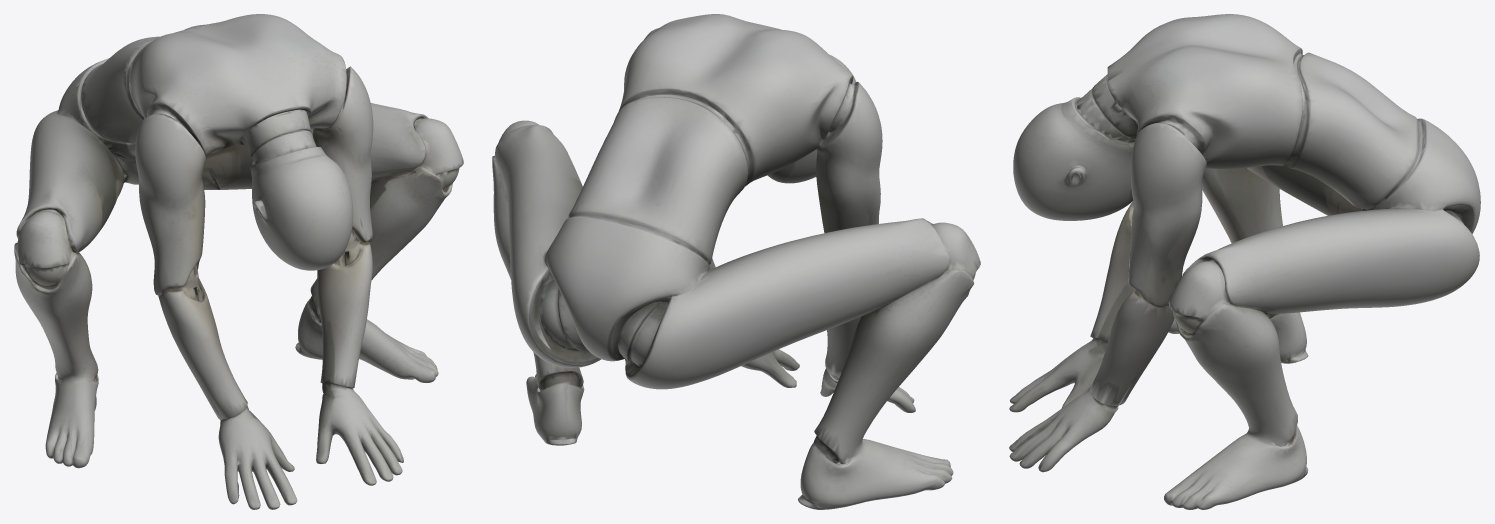
The picture shows the model from 3 angles, left to right: view 1: azimuth 30°, elevation 25°; view 2: azimuth 150°, elevation 25°; view 3: azimuth 270°, elevation 25°; orthographic projection. The views are drawn at different scales.
Visible parts, largest first — view 1: node_0; view 2: node_0; view 3: node_0.
Part boxes in pixels (x1,y1,x2,y2): node_0: (14,14,463,509); node_0: (492,14,980,509); node_0: (1009,14,1480,509).
Size of the model in its own units: 0.9434 by 0.8031 by 0.8691.
1 material, 1 textured.
